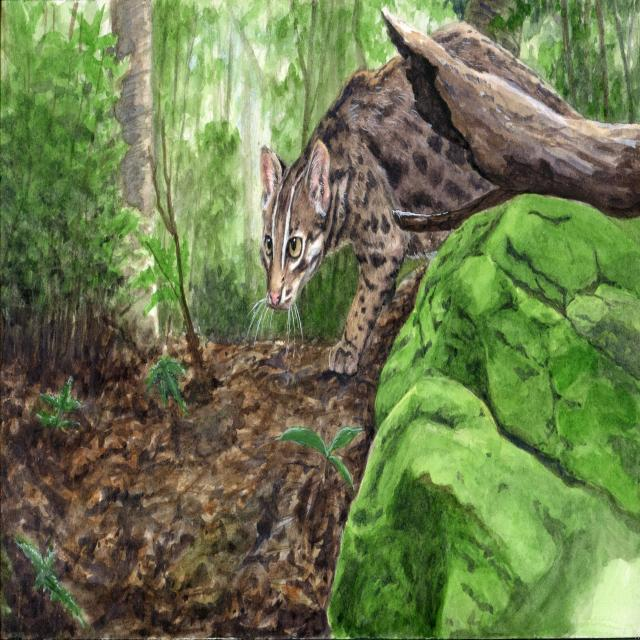leopard: (252, 134, 470, 304)
